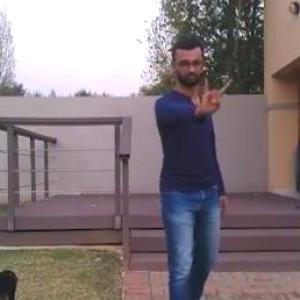takeoff-hand: (188, 66, 238, 119)
